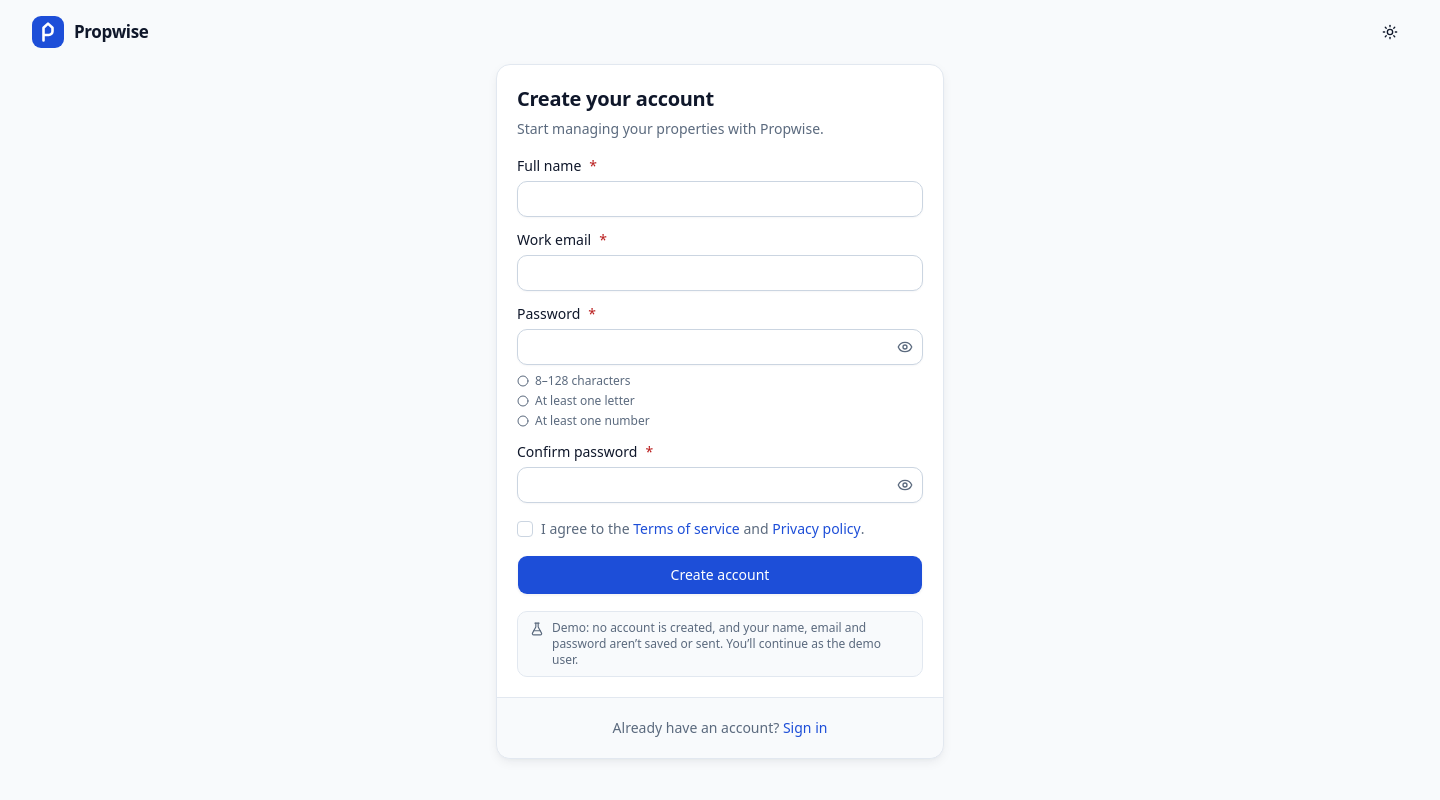
Test: auth pages › sign-up validates every rule, including the terms
Step 1. Type "short" into the password field labelled "Password *" → (720, 347), box [517,329,923,365]
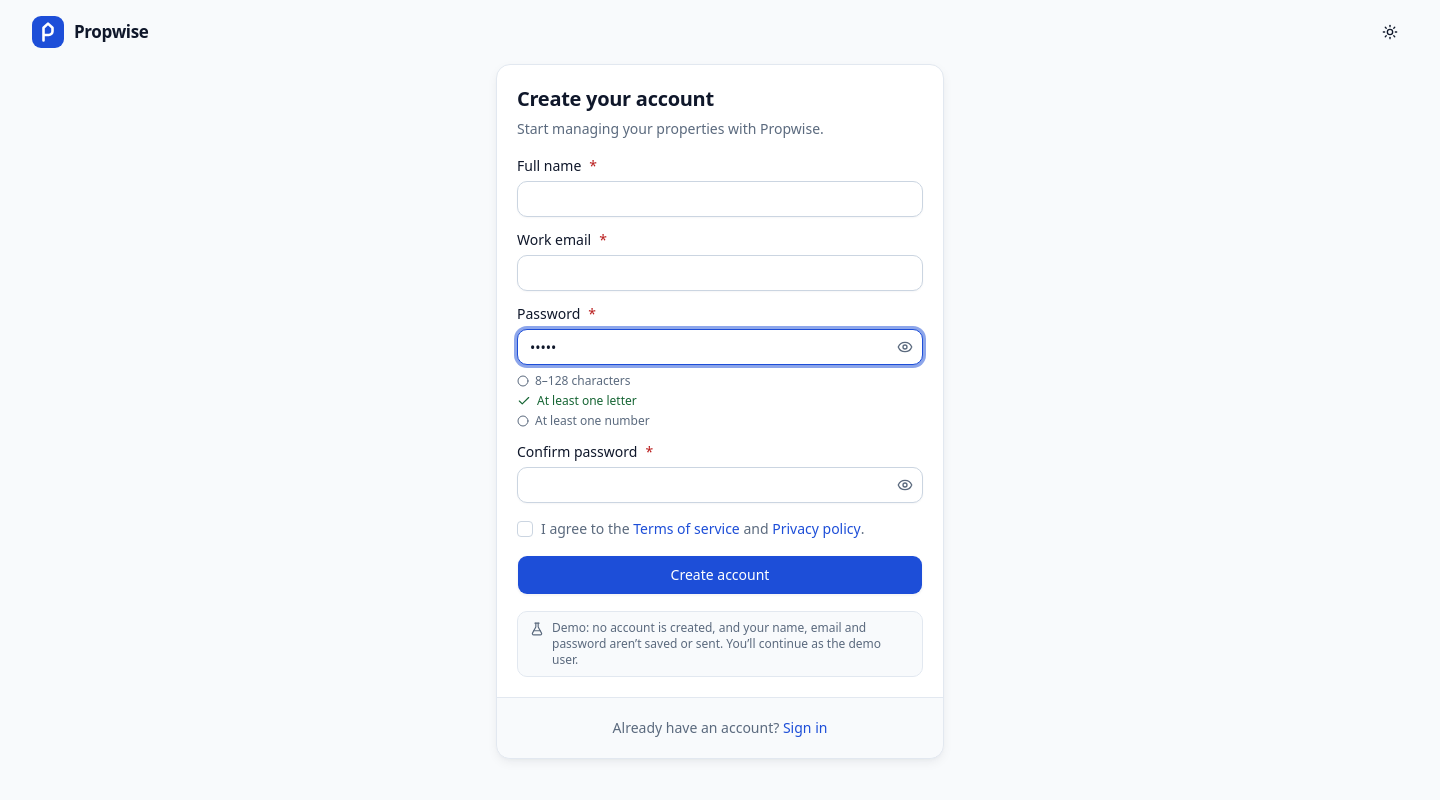
Step 2. Type "other" into the password field labelled "Confirm password *" → (720, 485), box [517,467,923,503]
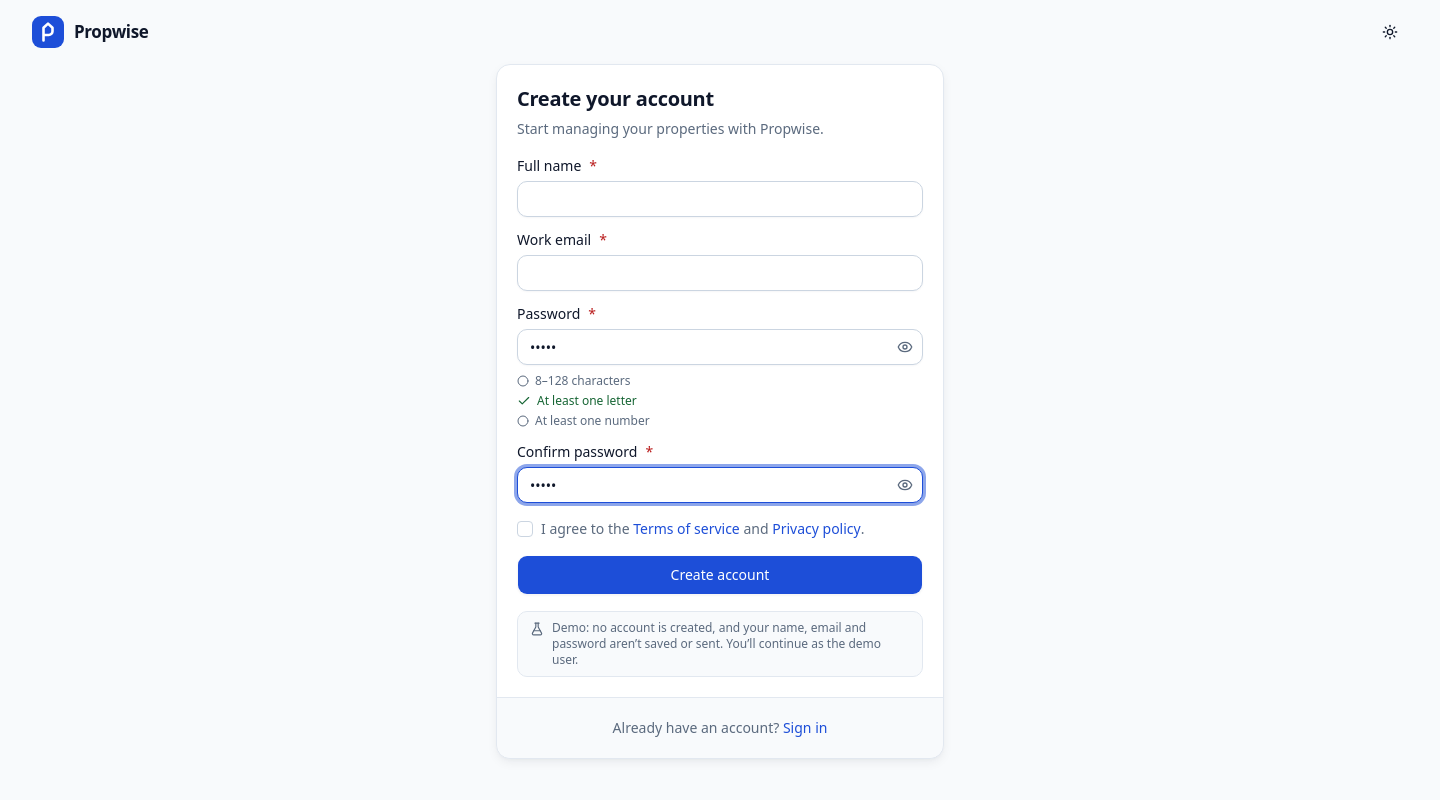
Step 3. Click the button "Create account" → (720, 575), box [517,555,923,595]
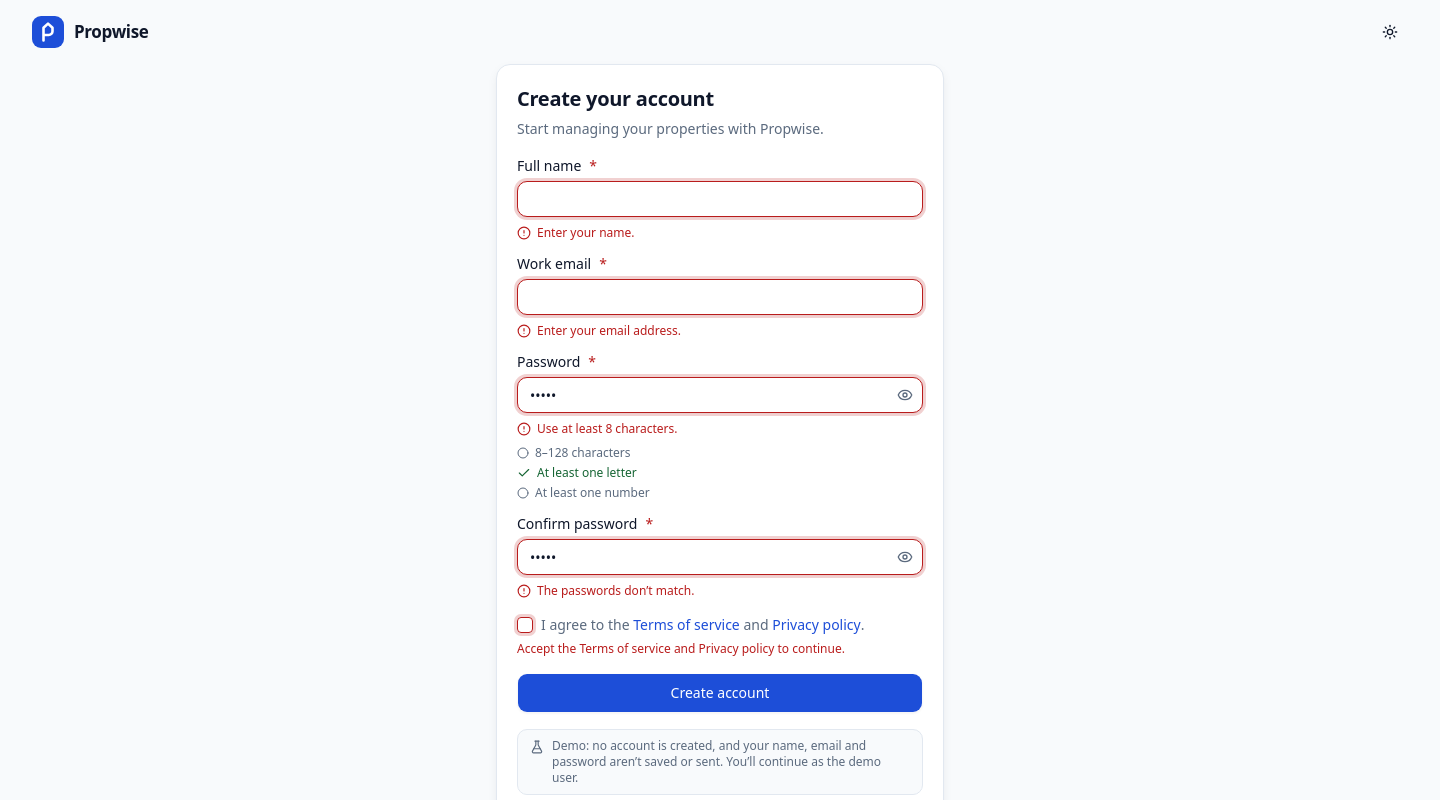
Now the text "Enter your name." is shown, box [517,224,634,241]
Now the text "Enter your email address." is shown, box [517,322,681,339]
Now the text "Use at least 8 characters." is shown, box [517,420,678,437]
